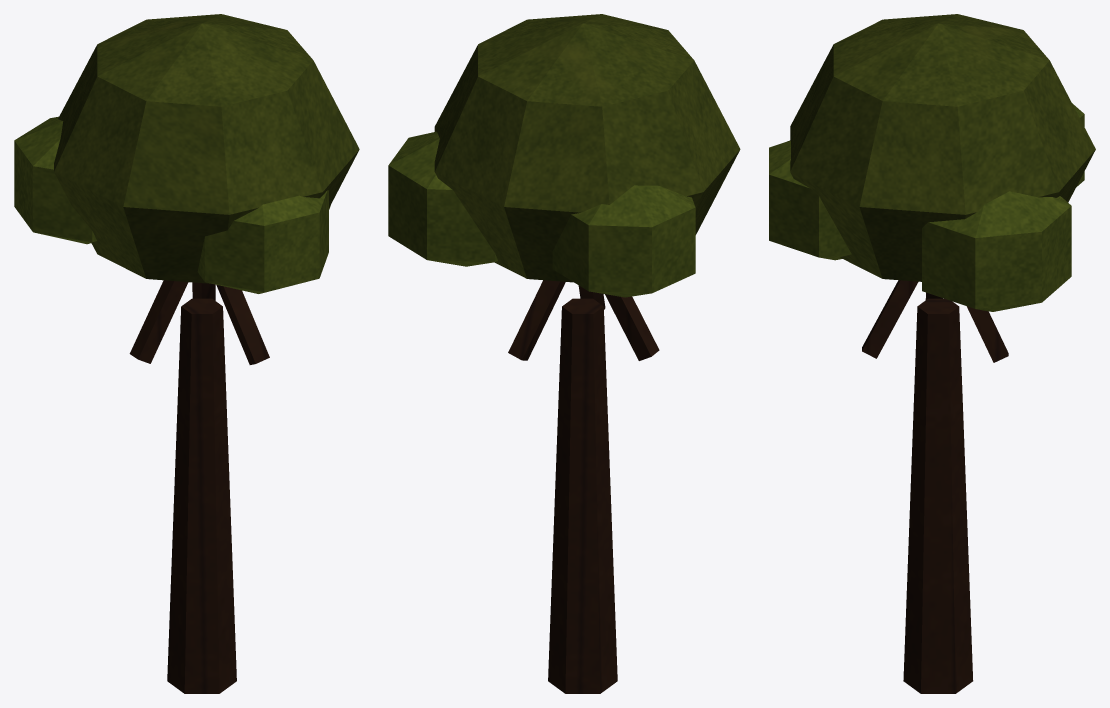
File: maple.gltf
3 views of the same model, side by side, from view 1: azimuth 30°, elevation 25°; view 2: azimuth 150°, elevation 25°; view 3: azimuth 270°, elevation 25° (orthographic).
Parts seen in each view (by area): view 1: Maple; view 2: Maple; view 3: Maple.
Part boxes in pixels (<box>): Maple: <box>14,14,359,693</box>; Maple: <box>388,14,740,693</box>; Maple: <box>769,14,1095,693</box>.
Size of the model in its own units: 1.13 by 2.39 by 1.08.
3 materials, 3 textured.
